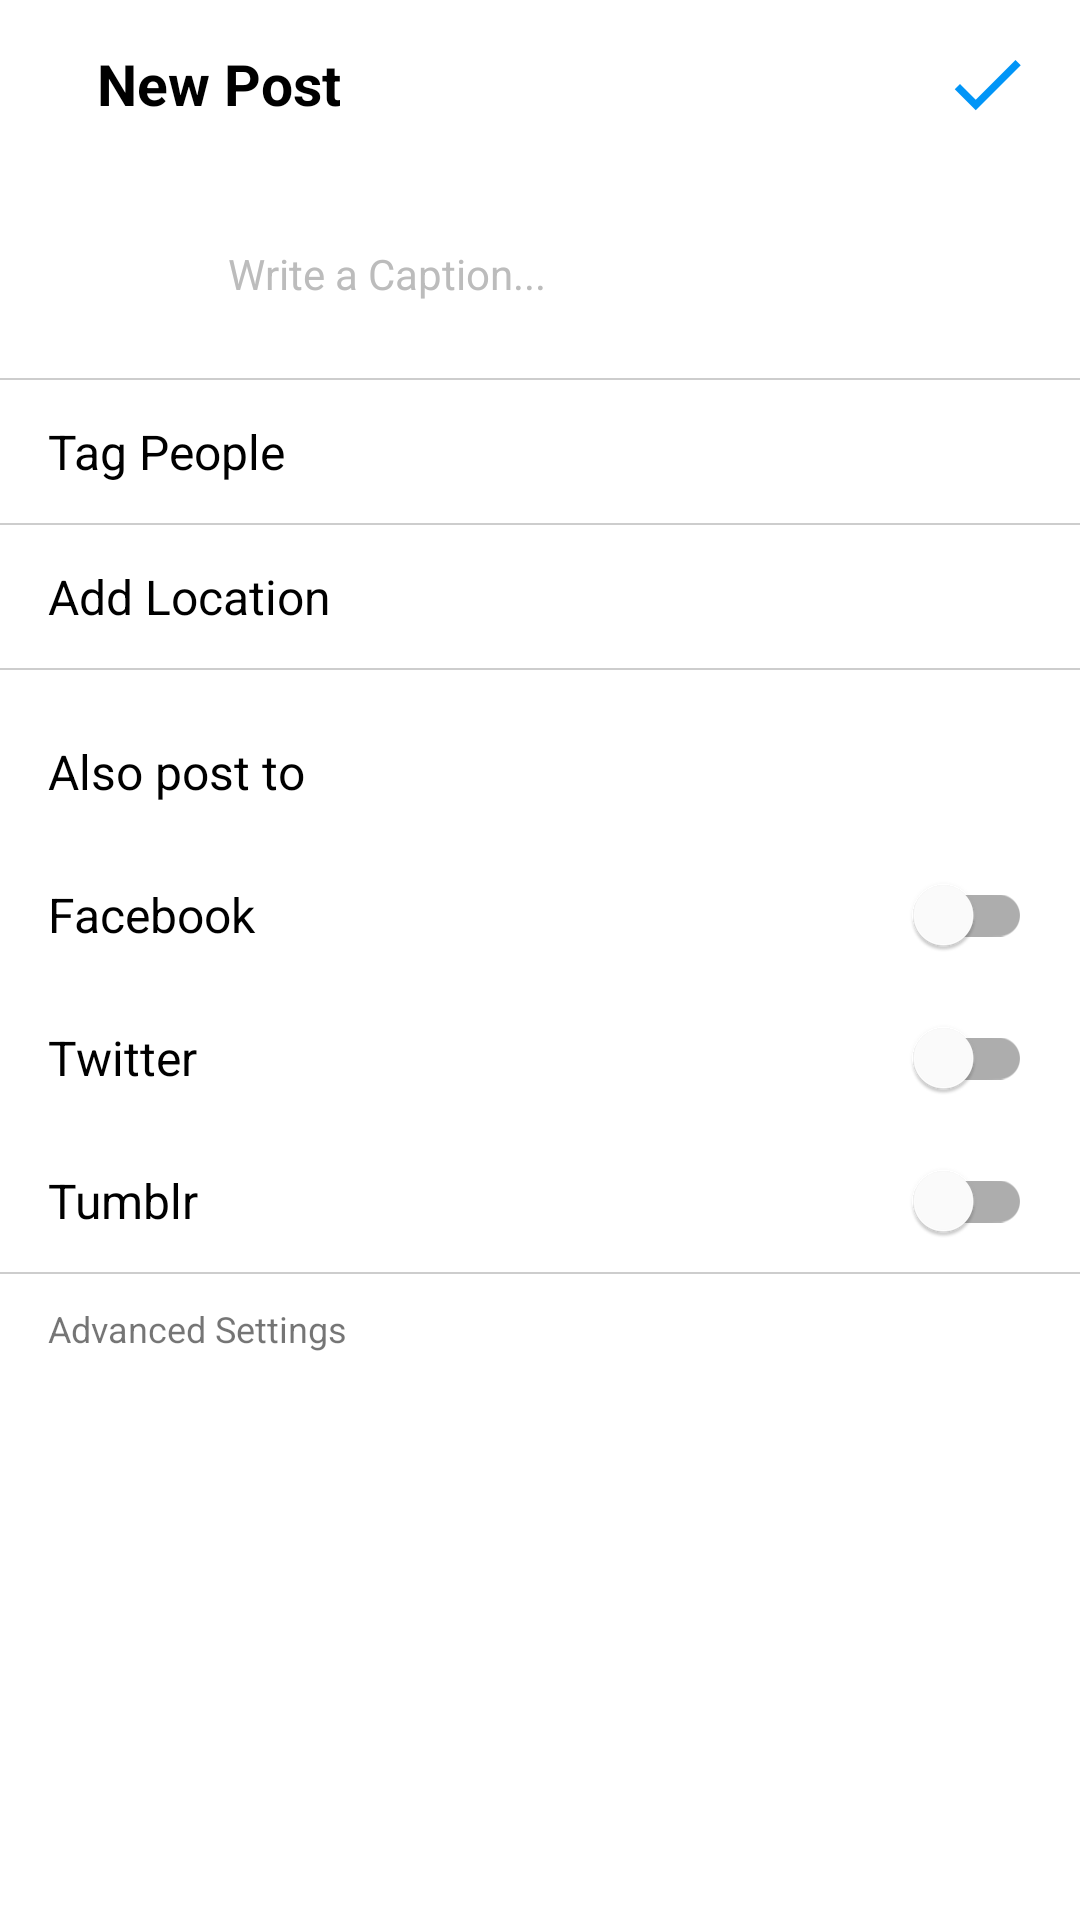

Icon click points for this 1080×1920 phone screenshot, format [x,y]:
done: [988,85]
